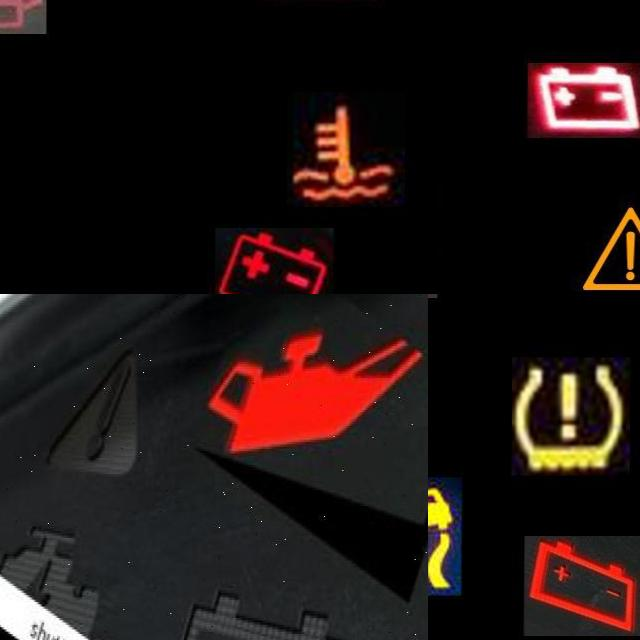Central Warning lamp: (571, 190, 640, 294)
Engine cooling system: (287, 92, 406, 208)
